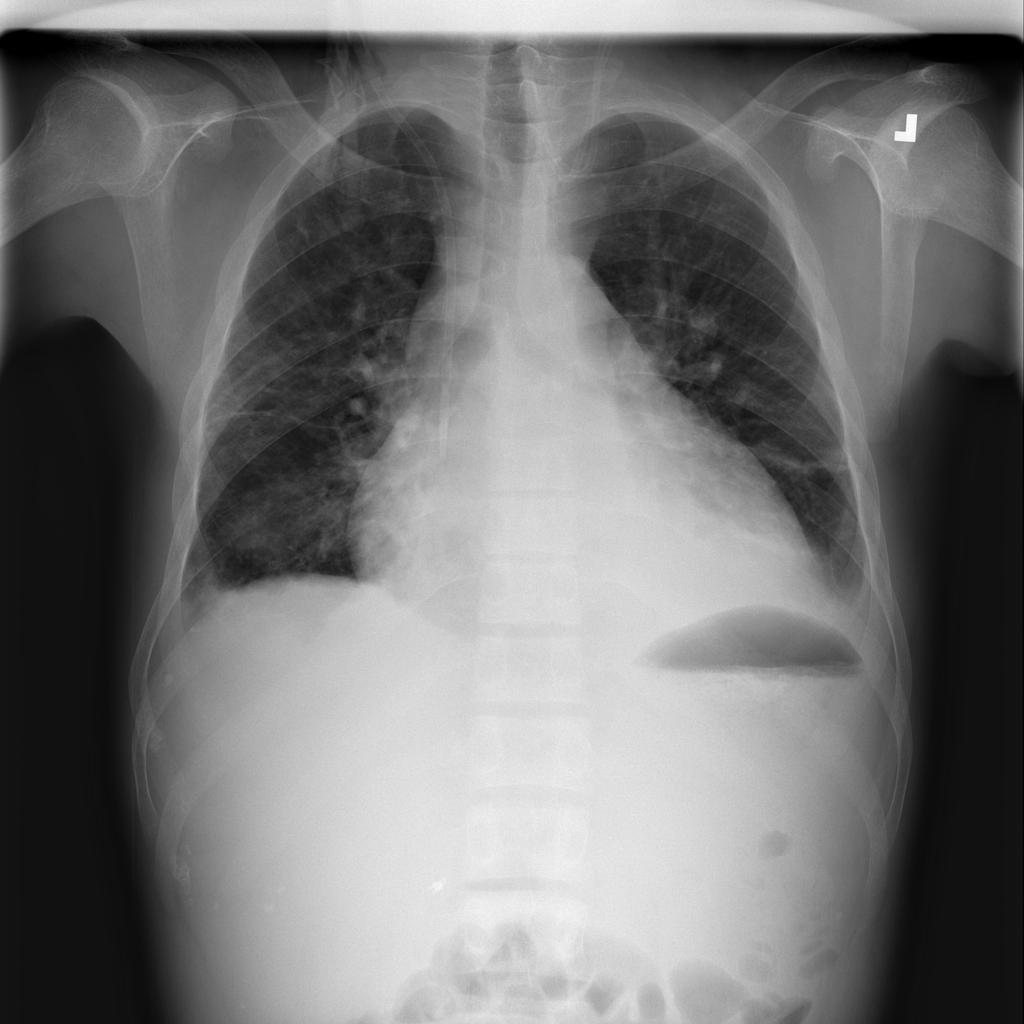nodule: (203, 463, 345, 574), (323, 193, 376, 239)
